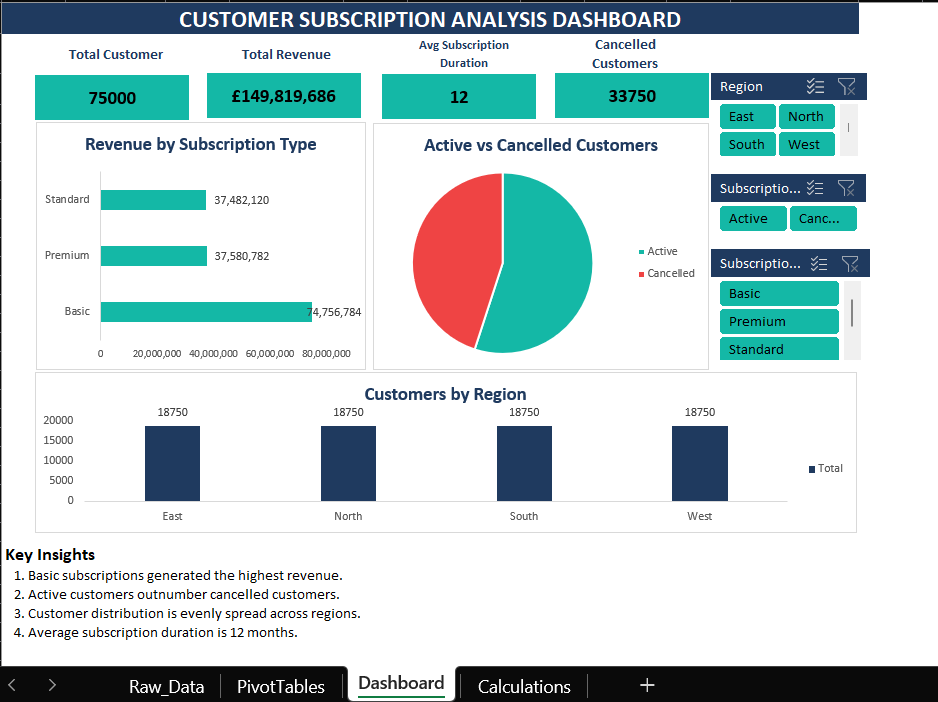

What the dashboard file says about the page in this screenshot:
{"tool":"powerbi","page":{"name":"Customer Subscription Dashboard","canvas":[1280,720],"ordinal":0},"visuals":[{"type":"cardVisual","fields":{"Data":["CustomerData.Total Customers"]},"box":[89.3,82.9,280,119.8],"z":0},{"type":"cardVisual","fields":{"Data":["CustomerData.Total Revenue"]},"box":[385.2,82.9,280,119.8],"z":1000},{"type":"cardVisual","fields":{"Data":["CustomerData.Avg Subscription Duration"]},"box":[686,82.9,280,119.8],"z":2000},{"type":"cardVisual","fields":{"Data":["CustomerData.Cancelled Customers"]},"box":[985.6,82.9,280,119.8],"z":3000},{"type":"clusteredBarChart","title":"Revenue by Subscription Type","fields":{"Category":["CustomerData.SubscriptionType"],"Y":["Sum(CustomerData.Revenue)"]},"box":[684.8,220.1,281.3,344.8],"z":4000},{"type":"pieChart","title":"Active vs Cancelled Customers","fields":{"Y":["CountNonNull(CustomerData.CustomerID)"],"Category":["CustomerData.Subscription Status"]},"box":[89.3,220.1,280,344.8],"z":5000},{"type":"clusteredColumnChart","title":"Customers by Region","fields":{"Category":["CustomerData.Region"],"Y":["CountNonNull(CustomerData.CustomerID)"]},"box":[391.3,220.1,273.9,344.8],"z":6000},{"type":"clusteredBarChart","title":"Cancelled Customers by Region","fields":{"Category":["CustomerData.Region"],"Y":["CountNonNull(CustomerData.CustomerID)"]},"box":[985.6,220.1,281.3,344.8],"z":7000},{"type":"slicer","fields":{"Values":["CustomerData.Region"]},"box":[89.3,576,327.7,135.7],"z":8000},{"type":"slicer","fields":{"Values":["CustomerData.SubscriptionType"]},"box":[428,576,327.7,135.7],"z":9000},{"type":"slicer","fields":{"Values":["CustomerData.Subscription Status"]},"box":[765.5,576,327.7,135.7],"z":10000},{"type":"textbox","box":[276.4,0,816.9,68.5],"z":11000},{"type":"textbox","box":[859.7,127.2,78.3,31.8],"z":12000},{"type":"textbox","box":[1102.7,576.7,164.1,135.1],"z":12001}]}

Visuals, with their boxes on the page's 1280x720 design canvas (x1, y1, x2, y2). These are canvas units, not pixel positions in the 938x702 screenshot, which may show the page scaled, cropped or inside an application window:
cardVisual - CustomerData.Total Customers: box(89, 83, 369, 203)
cardVisual - CustomerData.Total Revenue: box(385, 83, 665, 203)
cardVisual - CustomerData.Avg Subscription Duration: box(686, 83, 966, 203)
cardVisual - CustomerData.Cancelled Customers: box(986, 83, 1266, 203)
"Revenue by Subscription Type" clusteredBarChart: box(685, 220, 966, 565)
"Active vs Cancelled Customers" pieChart: box(89, 220, 369, 565)
"Customers by Region" clusteredColumnChart: box(391, 220, 665, 565)
"Cancelled Customers by Region" clusteredBarChart: box(986, 220, 1267, 565)
slicer - CustomerData.Region: box(89, 576, 417, 712)
slicer - CustomerData.SubscriptionType: box(428, 576, 756, 712)
slicer - CustomerData.Subscription Status: box(766, 576, 1093, 712)
textbox: box(276, 0, 1093, 68)
textbox: box(860, 127, 938, 159)
textbox: box(1103, 577, 1267, 712)
